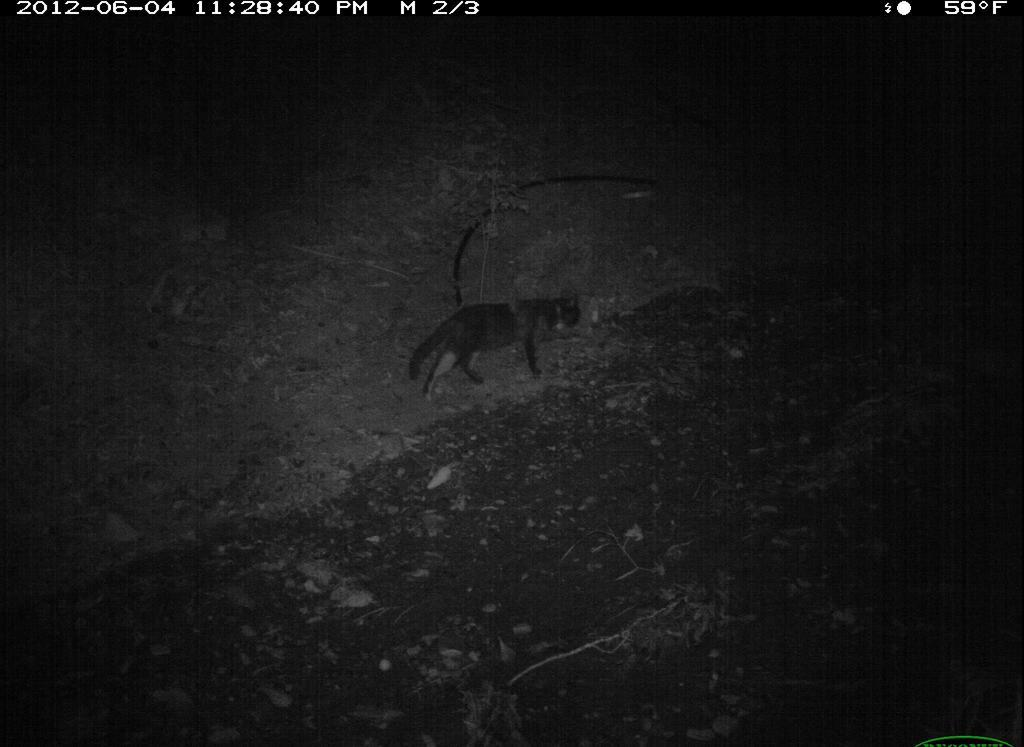cat: (407, 294, 584, 407)
